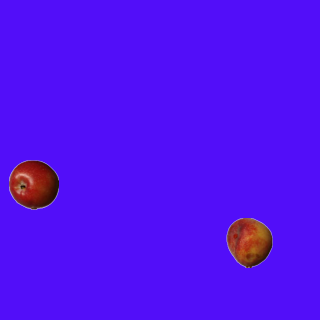Apple Braeburn: (8, 159, 58, 209)
Peach: (224, 217, 274, 267)
